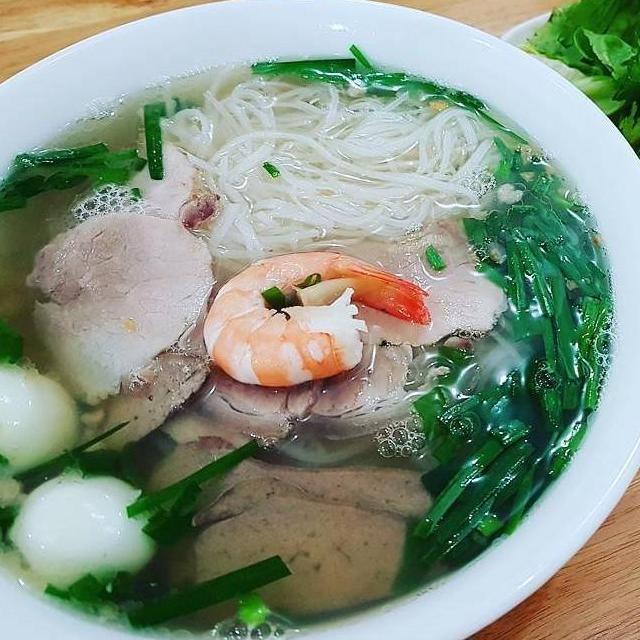banh hu tieu: (107, 56, 522, 281)
gan: (34, 285, 231, 461), (173, 488, 414, 620), (193, 450, 444, 535)
hu tieu: (0, 61, 640, 631)
thit heo: (20, 185, 231, 411), (286, 204, 518, 355), (54, 129, 224, 271)
tom: (199, 246, 438, 394)
trung: (0, 466, 166, 594), (0, 355, 89, 485)
